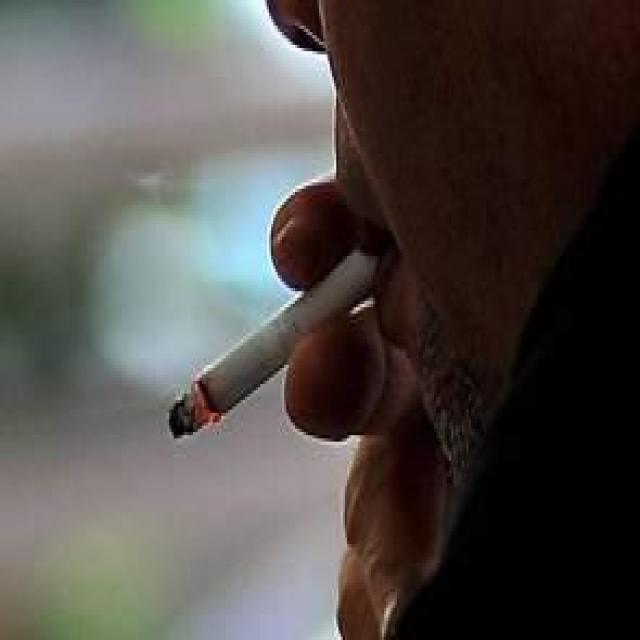rokok: (164, 246, 430, 437)
